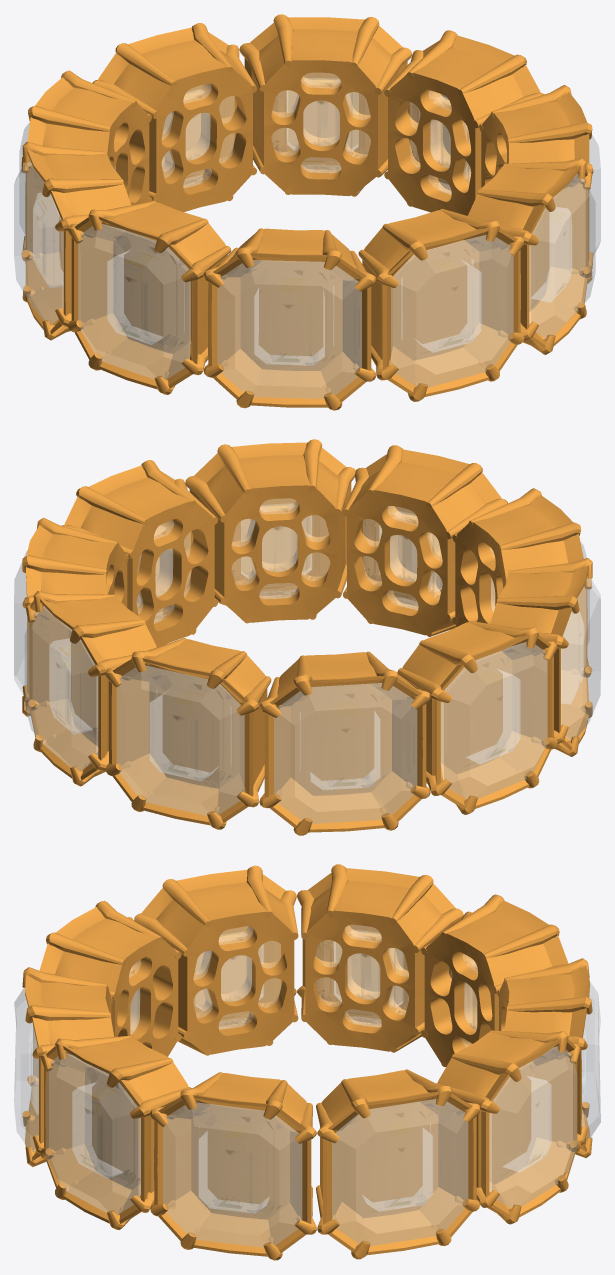
Rendered from ring.gltf.
3 views of the same model, one above another, from view 1: azimuth 30°, elevation 25°; view 2: azimuth 150°, elevation 25°; view 3: azimuth 270°, elevation 25° (orthographic).
Parts seen in each view (by area): view 1: rING.010, rING.069, rING.009; view 2: rING.010, rING.069, rING.009; view 3: rING.010, rING.069, rING.009.
Boxes of the visible parts, x1,y1,x2,y2 form: rING.010: [21, 14, 593, 410]; rING.069: [14, 123, 600, 398]; rING.009: [115, 73, 470, 194]; rING.010: [22, 439, 592, 835]; rING.069: [14, 542, 600, 823]; rING.009: [137, 498, 494, 623]; rING.010: [22, 864, 592, 1260]; rING.069: [14, 982, 600, 1247]; rING.009: [129, 925, 477, 1046].
Size of the model in its own units: 0.4848 by 0.1462 by 0.4852.
